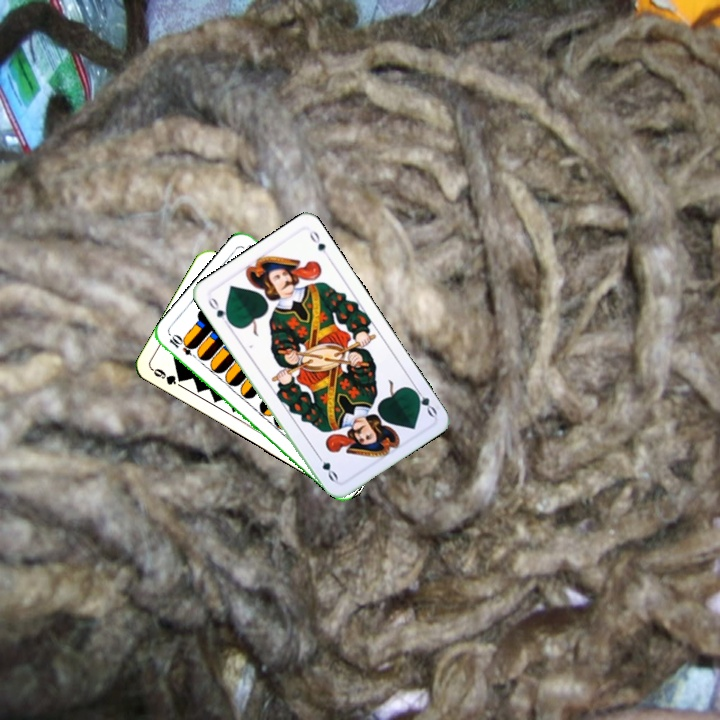E10: (165, 331, 202, 363)
G9: (148, 364, 186, 387)
GO: (408, 382, 440, 419), (204, 293, 234, 329)
